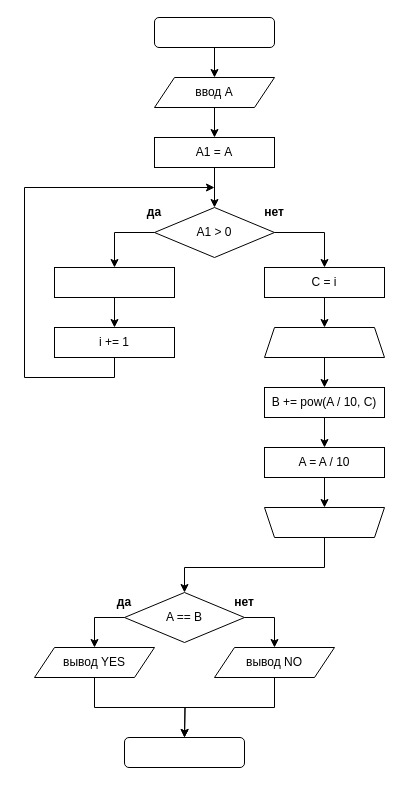
Some shapes in this 402 by 785 pixel diagram are drawn without their labels. The shapes that lost their labels are listed below. From the top down, each one's centre as x and y in pixels, then its label:
At point (214, 32): "Начало".
At point (114, 282): "А1 = А1 / 10".
At point (324, 342): "i=0".
At point (324, 522): "i<C i++".
At point (184, 752): "Конеч".
